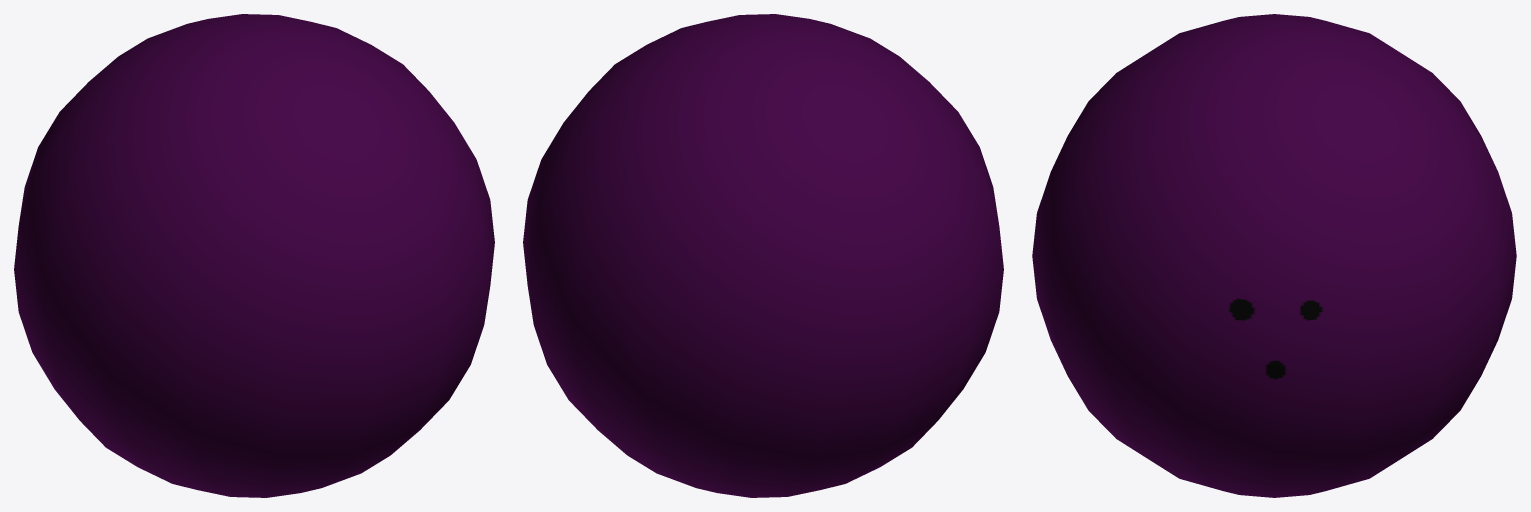
Rendered from Bola_Boliche_Mano.obj.
3 renders of one model, left to right at view 1: azimuth 30°, elevation 25°; view 2: azimuth 150°, elevation 25°; view 3: azimuth 270°, elevation 25°, orthographic.
Visible parts, largest first — view 1: Bola_Boliche; view 2: Bola_Boliche; view 3: Bola_Boliche.
Part boxes in pixels (x1,y1,x2,y2): Bola_Boliche: (14,14,494,497); Bola_Boliche: (523,14,1003,497); Bola_Boliche: (1032,14,1516,497).
Size of the model in its own units: 0.2036 by 0.2036 by 0.2036.
1 material, 1 textured.
